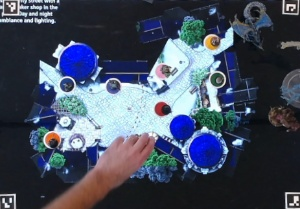blue: (56, 74, 77, 93)
green: (209, 67, 229, 88)
orange: (41, 130, 62, 149)
pink: (153, 62, 175, 80)
red: (151, 100, 173, 119)
violet: (102, 76, 121, 96)
yellow: (199, 32, 221, 52)
